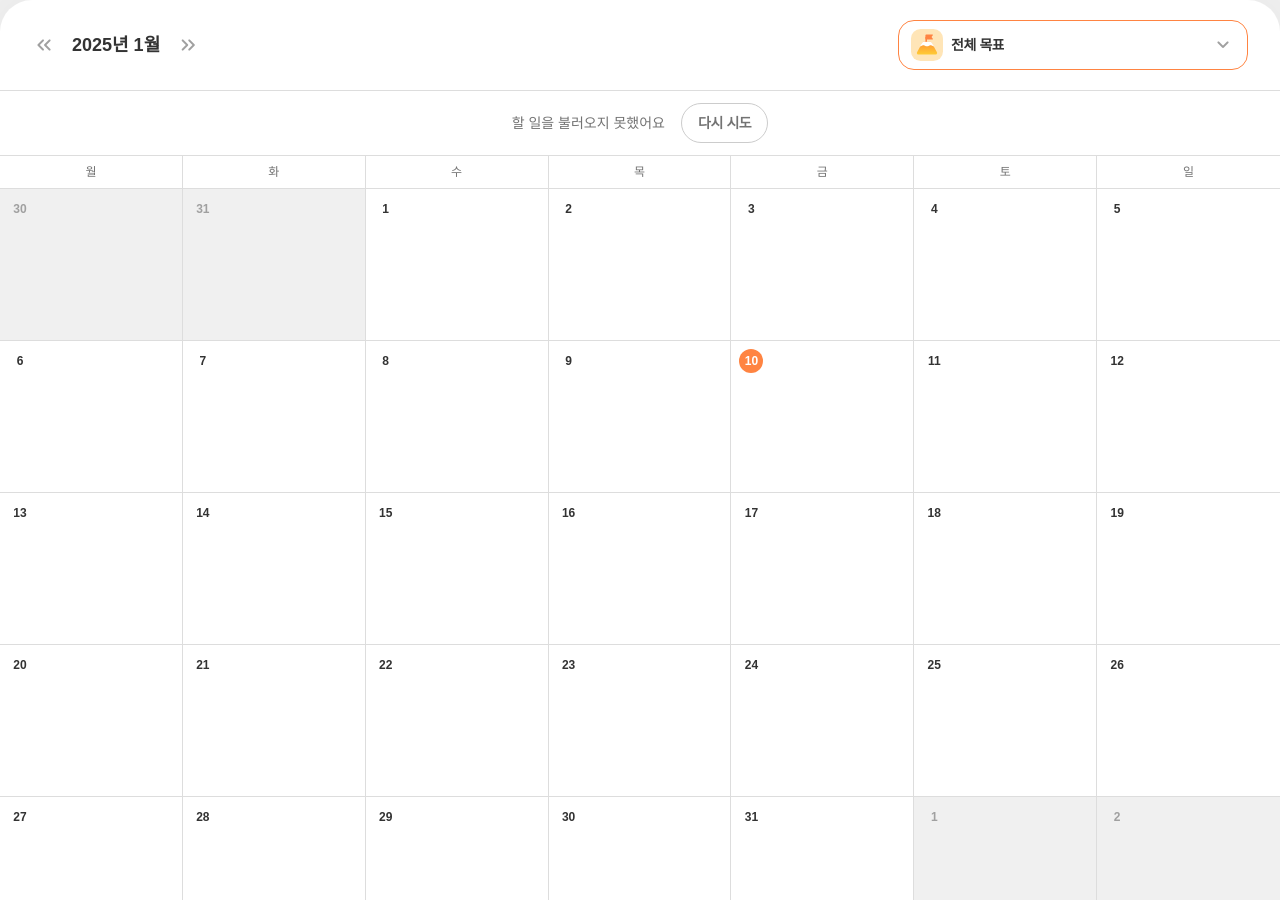
Test: CalendarView › 이어 받기에 실패하면 에러를 표시하고 다시 시도하면 채운다
Expected: the text "할 일 1" is not shown
Step 1. Click the button "다시 시도" → (725, 123), box [681,103,768,143]
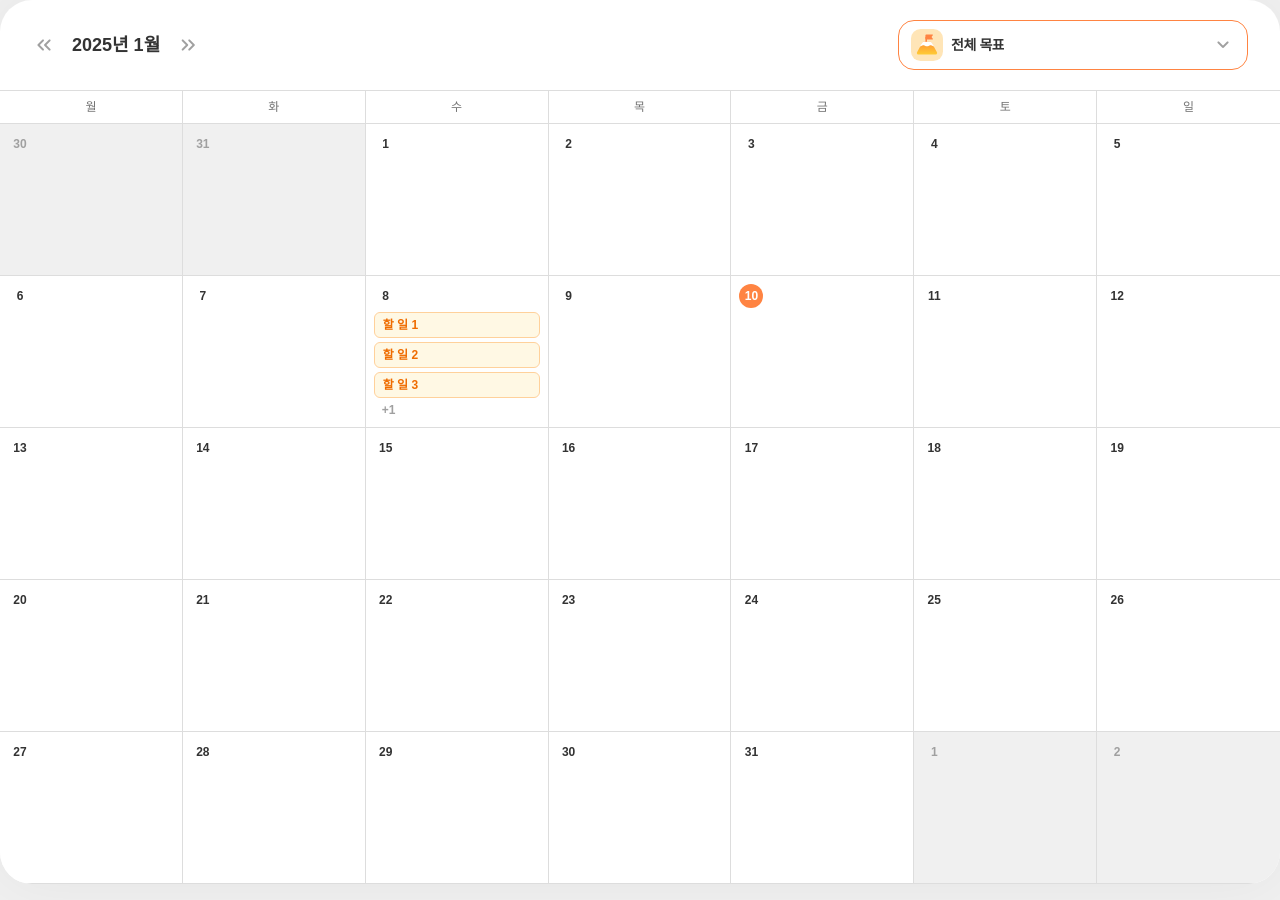
Now the message "할 일을 불러오지 못했어요 다시 시도" is gone
